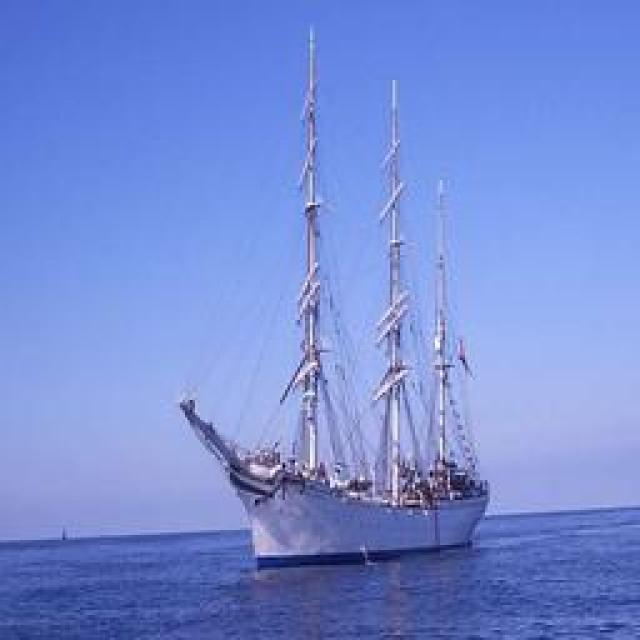ship2: (177, 22, 493, 563)
